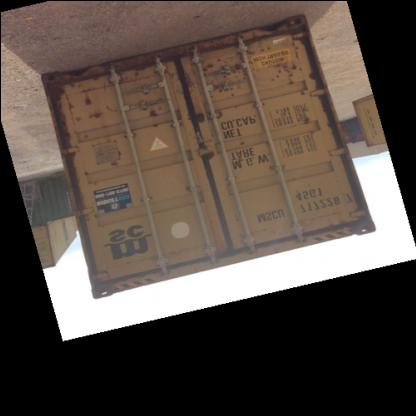Damage: (191, 58, 242, 100), (268, 58, 306, 90), (140, 107, 164, 133), (106, 70, 138, 89), (152, 66, 178, 86), (182, 180, 202, 204), (58, 89, 74, 117), (238, 43, 270, 57), (109, 151, 129, 171), (80, 167, 96, 190), (103, 102, 124, 118), (78, 93, 93, 112), (298, 116, 314, 132), (80, 134, 92, 144), (89, 114, 103, 122), (238, 140, 246, 150), (76, 118, 83, 127), (300, 92, 310, 98)
